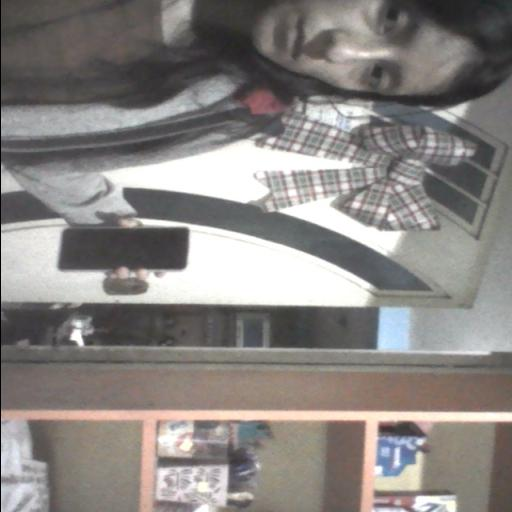phone: (52, 222, 193, 272)
